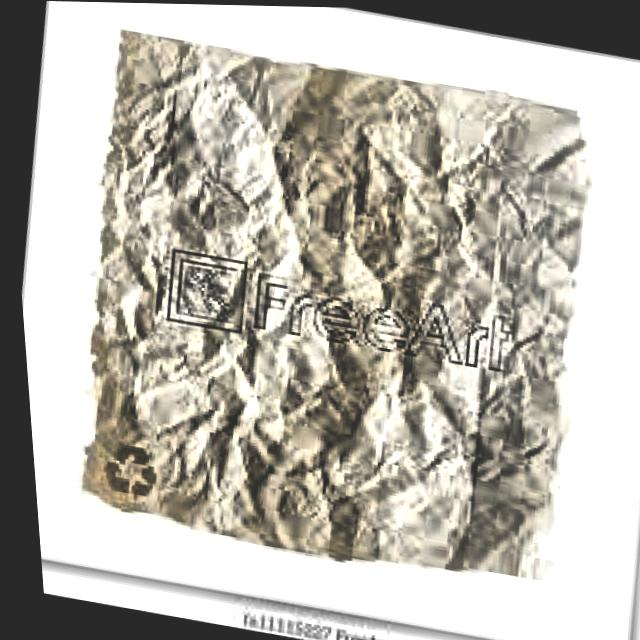Paper: (35, 15, 620, 593)
